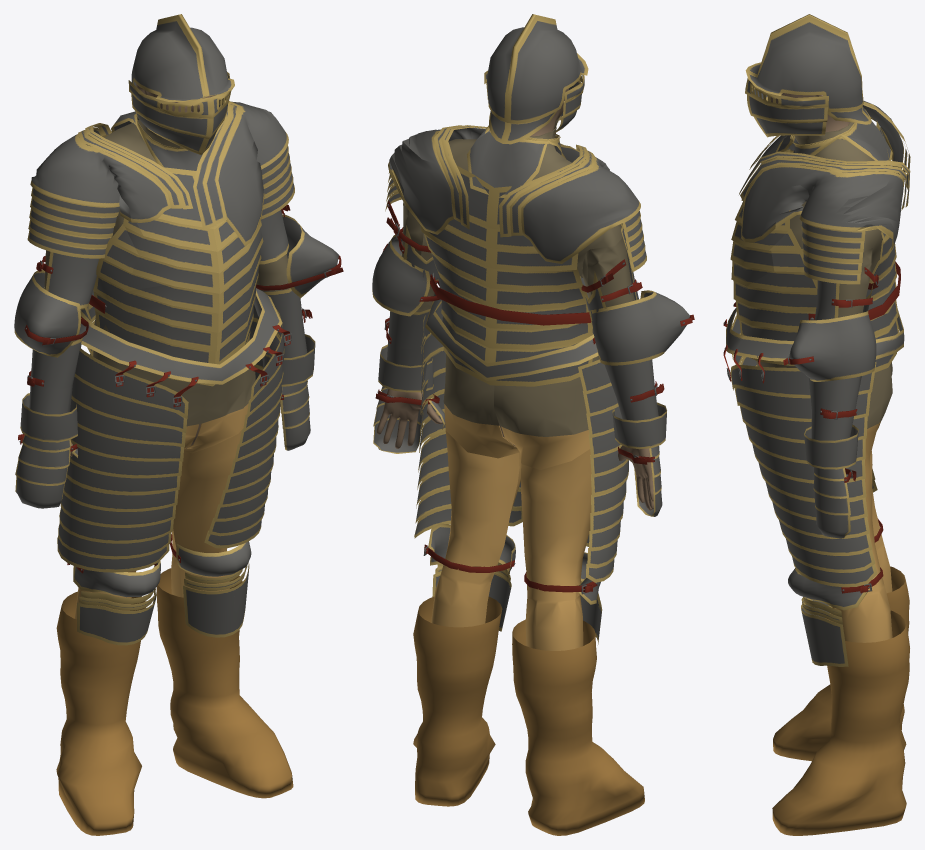
The model's file is henry.glb.
3 renders of one model, left to right at view 1: azimuth 30°, elevation 25°; view 2: azimuth 150°, elevation 25°; view 3: azimuth 270°, elevation 25°, orthographic. The views are drawn at different scales.
Visible parts, largest first — view 1: tassets--worn/tassets, breastplate--worn/plate, leather_boot--left/leather_boot--left, leather_boot--right/leather_boot--right, pauldron--right/plate, pauldron--left/plate, padded_chausses--left/padded_chausses--left, burgonet--worn/skull, arming_doublet--worn/arming_doublet--worn, tassets--worn/fauld, mitten_gauntlet--right/plate, burgonet--worn/buffe (+13 smaller); view 2: breastplate--worn/plate, leather_boot--right/leather_boot--right, leather_boot--left/leather_boot--left, padded_chausses--right/padded_chausses--right, padded_chausses--left/padded_chausses--left, tassets--worn/tassets, arming_doublet--worn/arming_doublet--worn, pauldron--right/plate, burgonet--worn/skull, pauldron--left/plate, couter--right/plate, gorget--worn/gorget--worn (+13 smaller); view 3: leather_boot--left/leather_boot--left, tassets--worn/tassets, pauldron--left/plate, breastplate--worn/plate, burgonet--worn/skull, couter--left/plate, arming_doublet--worn/arming_doublet--worn, mitten_gauntlet--left/plate, leather_boot--right/leather_boot--right, padded_chausses--left/padded_chausses--left, burgonet--worn/buffe, vambrace--left/plate (+9 smaller).
Part boxes in pixels (bbox=[...]): tassets--worn/tassets: bbox=[57, 304, 284, 572]; breastplate--worn/plate: bbox=[85, 134, 263, 386]; leather_boot--left/leather_boot--left: bbox=[156, 568, 293, 798]; leather_boot--right/leather_boot--right: bbox=[56, 591, 145, 835]; pauldron--right/plate: bbox=[27, 123, 192, 258]; pauldron--left/plate: bbox=[193, 100, 294, 245]; padded_chausses--left/padded_chausses--left: bbox=[171, 404, 248, 597]; burgonet--worn/skull: bbox=[131, 14, 234, 104]; arming_doublet--worn/arming_doublet--worn: bbox=[44, 119, 290, 426]; tassets--worn/fauld: bbox=[78, 288, 282, 384]; mitten_gauntlet--right/plate: bbox=[15, 393, 77, 508]; burgonet--worn/buffe: bbox=[128, 72, 231, 155]; breastplate--worn/plate: bbox=[420, 144, 593, 386]; leather_boot--right/leather_boot--right: bbox=[512, 619, 644, 835]; leather_boot--left/leather_boot--left: bbox=[413, 596, 502, 806]; padded_chausses--right/padded_chausses--right: bbox=[501, 426, 591, 650]; padded_chausses--left/padded_chausses--left: bbox=[431, 404, 521, 627]; tassets--worn/tassets: bbox=[414, 303, 628, 582]; arming_doublet--worn/arming_doublet--worn: bbox=[401, 116, 634, 436]; pauldron--right/plate: bbox=[499, 144, 646, 271]; burgonet--worn/skull: bbox=[487, 14, 588, 144]; pauldron--left/plate: bbox=[385, 125, 563, 234]; couter--right/plate: bbox=[589, 290, 689, 365]; gorget--worn/gorget--worn: bbox=[467, 125, 562, 197]; leather_boot--left/leather_boot--left: bbox=[772, 610, 909, 835]; tassets--worn/tassets: bbox=[730, 315, 877, 587]; pauldron--left/plate: bbox=[739, 151, 910, 284]; breastplate--worn/plate: bbox=[730, 120, 898, 372]; burgonet--worn/skull: bbox=[745, 14, 871, 124]; couter--left/plate: bbox=[789, 310, 876, 381]; arming_doublet--worn/arming_doublet--worn: bbox=[756, 122, 892, 428]; mitten_gauntlet--left/plate: bbox=[804, 424, 858, 538]; leather_boot--right/leather_boot--right: bbox=[773, 566, 909, 761]; padded_chausses--left/padded_chausses--left: bbox=[834, 421, 892, 642]; burgonet--worn/buffe: bbox=[745, 78, 828, 137]; vambrace--left/plate: bbox=[808, 376, 861, 440].
Size of the model in its own units: 0.7924 by 1.9 by 0.4183.
54 materials, 20 textured.
